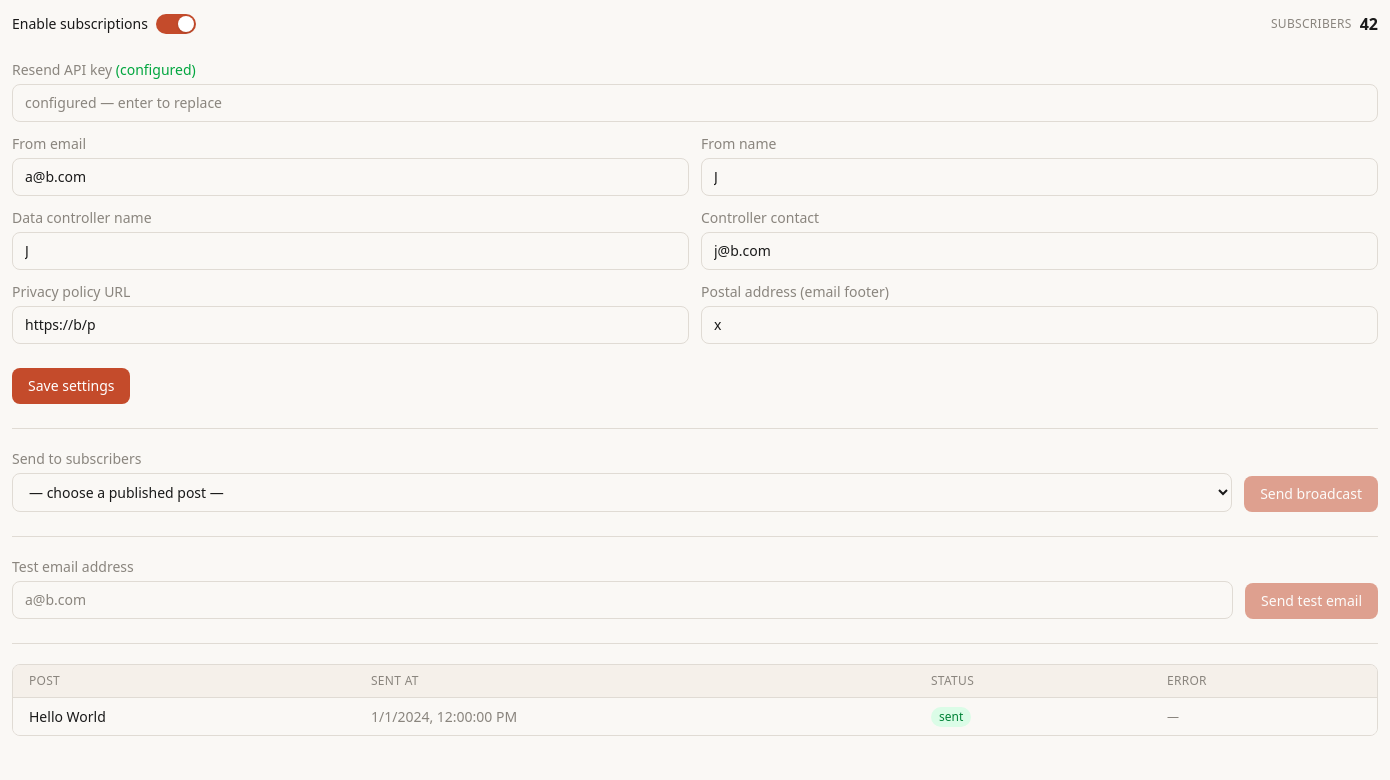
Test: SubscriptionsPanel › shows completed status only after the ledger reports sent
Expected: the text "42" is shown, [1360,12,1378,36]
Step 1. Select "Hello World" in the dropdown named "select post" → (622, 492), box [12,473,1232,512]
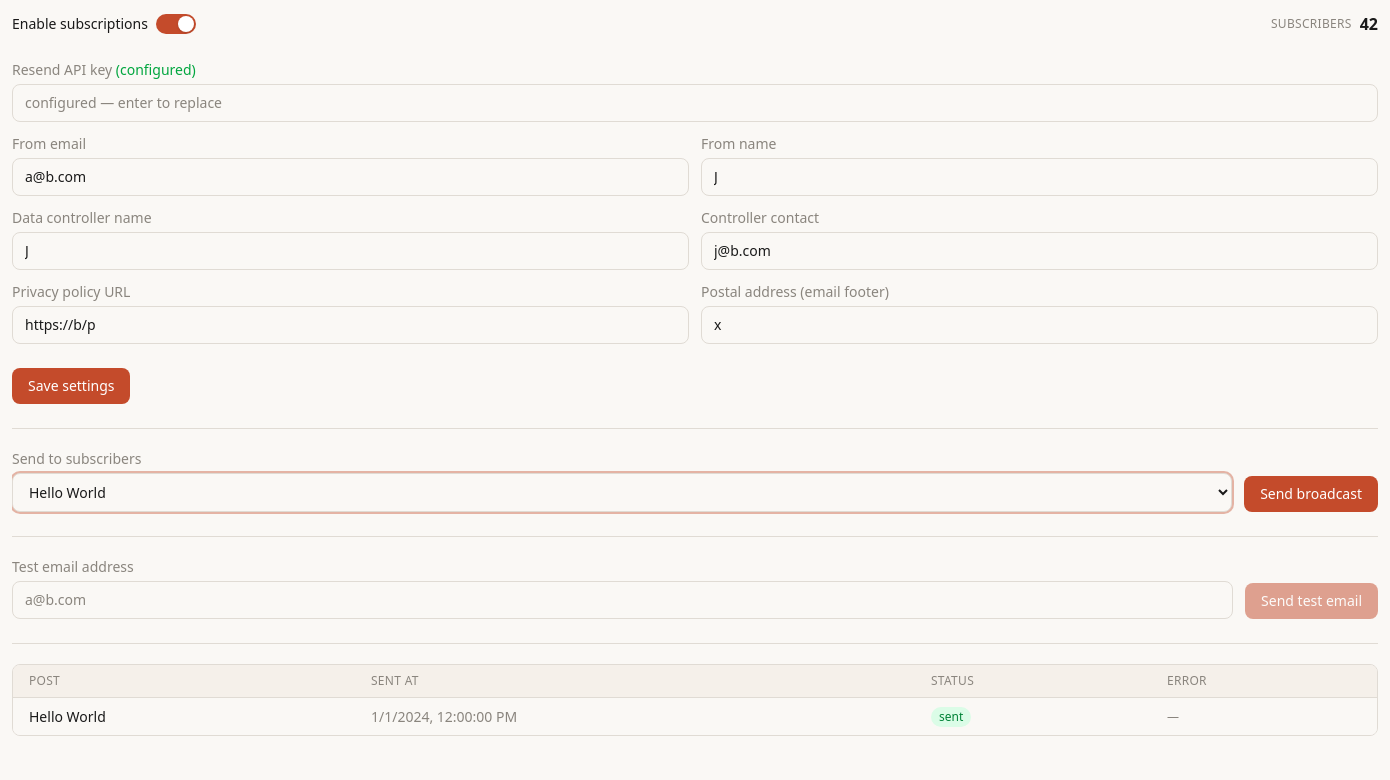
Step 2. Click the button "Send broadcast" → (1311, 494), box [1244,476,1378,512]
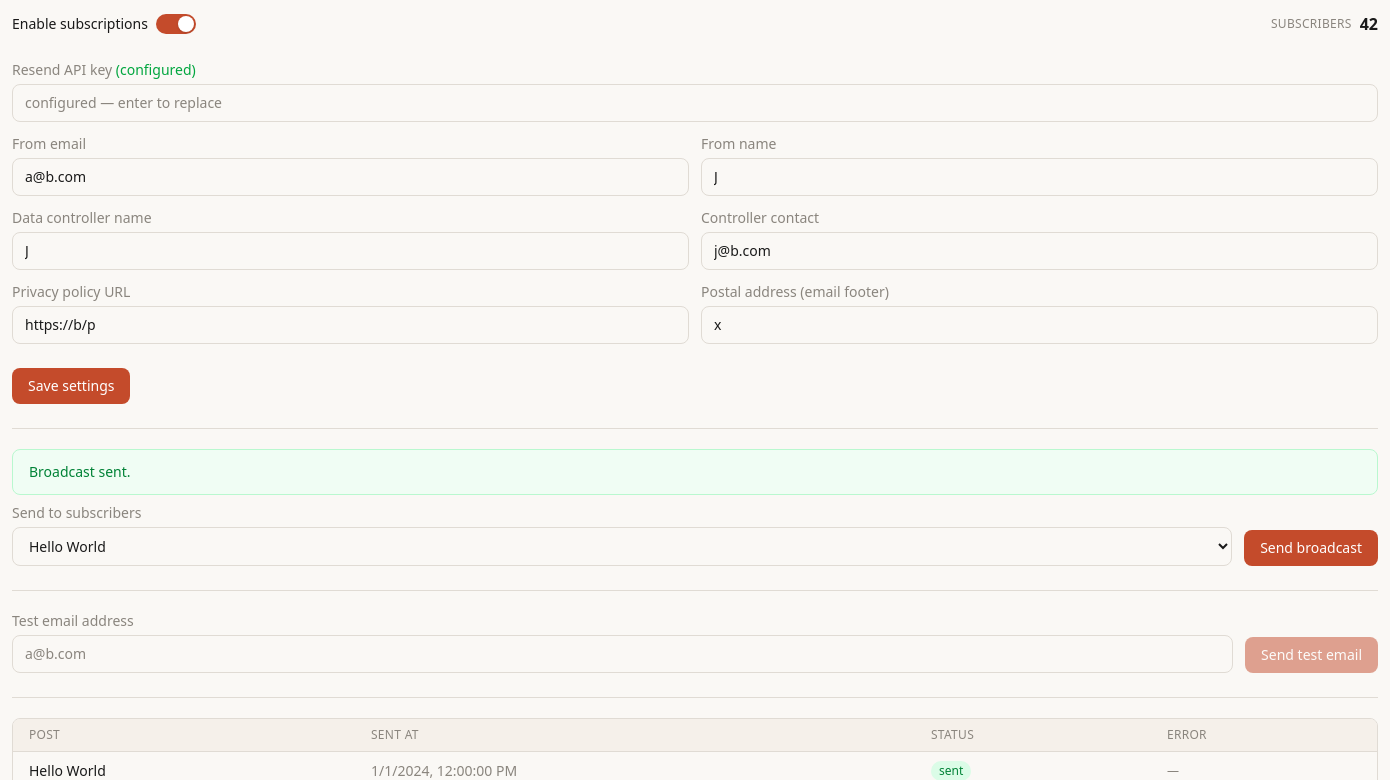
Expected: the text "Broadcast sent." is shown, [12,449,1378,495]
